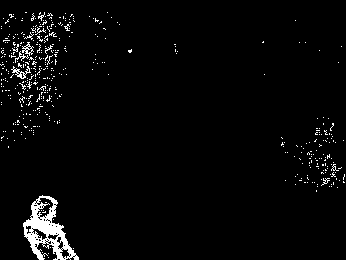person: (24, 192, 79, 260)
